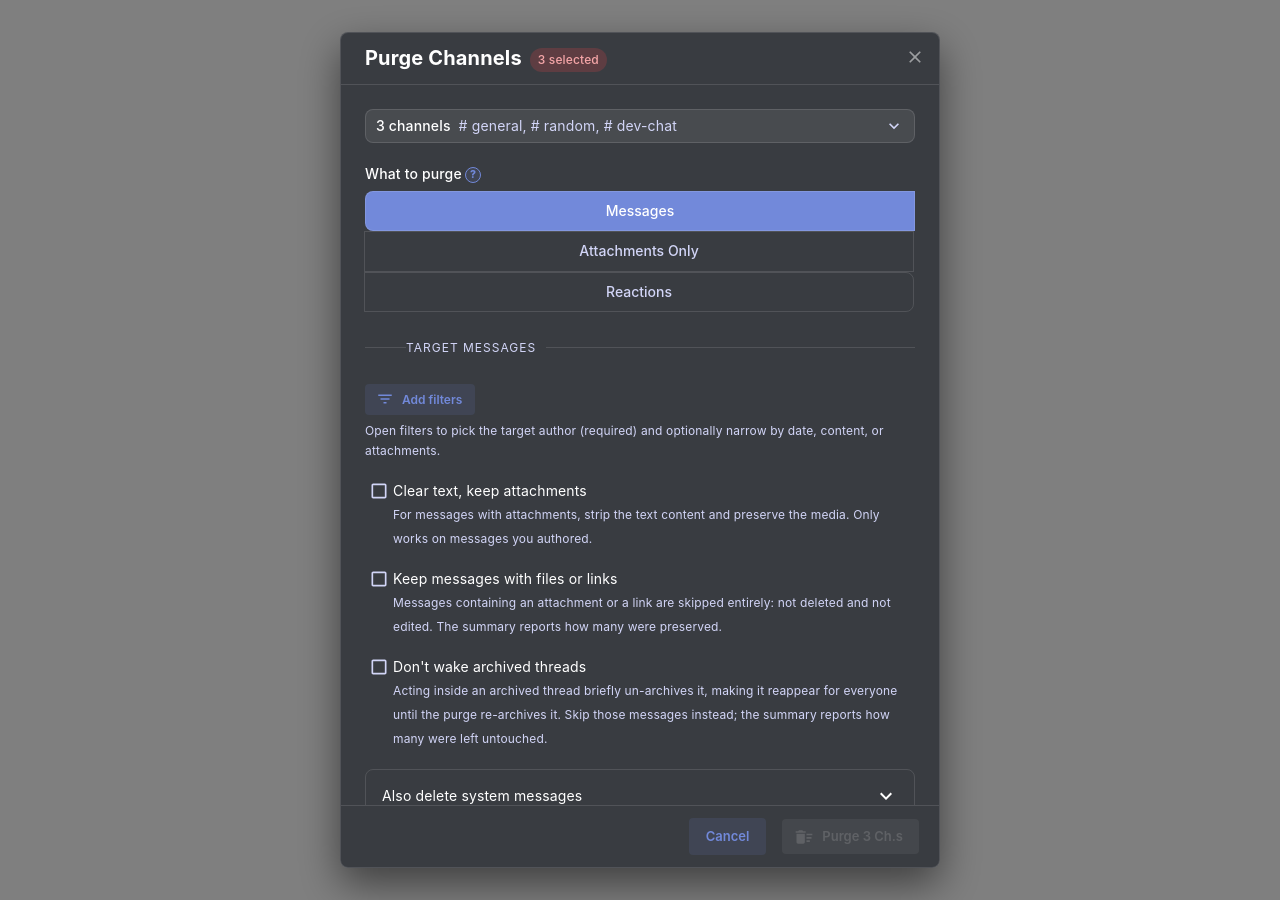
Test: BulkPurgeDialog › Channel mode › expands channel list when summary is clicked
Click the button with aria-label "Selected channels": (640, 126) [365,108,915,142]
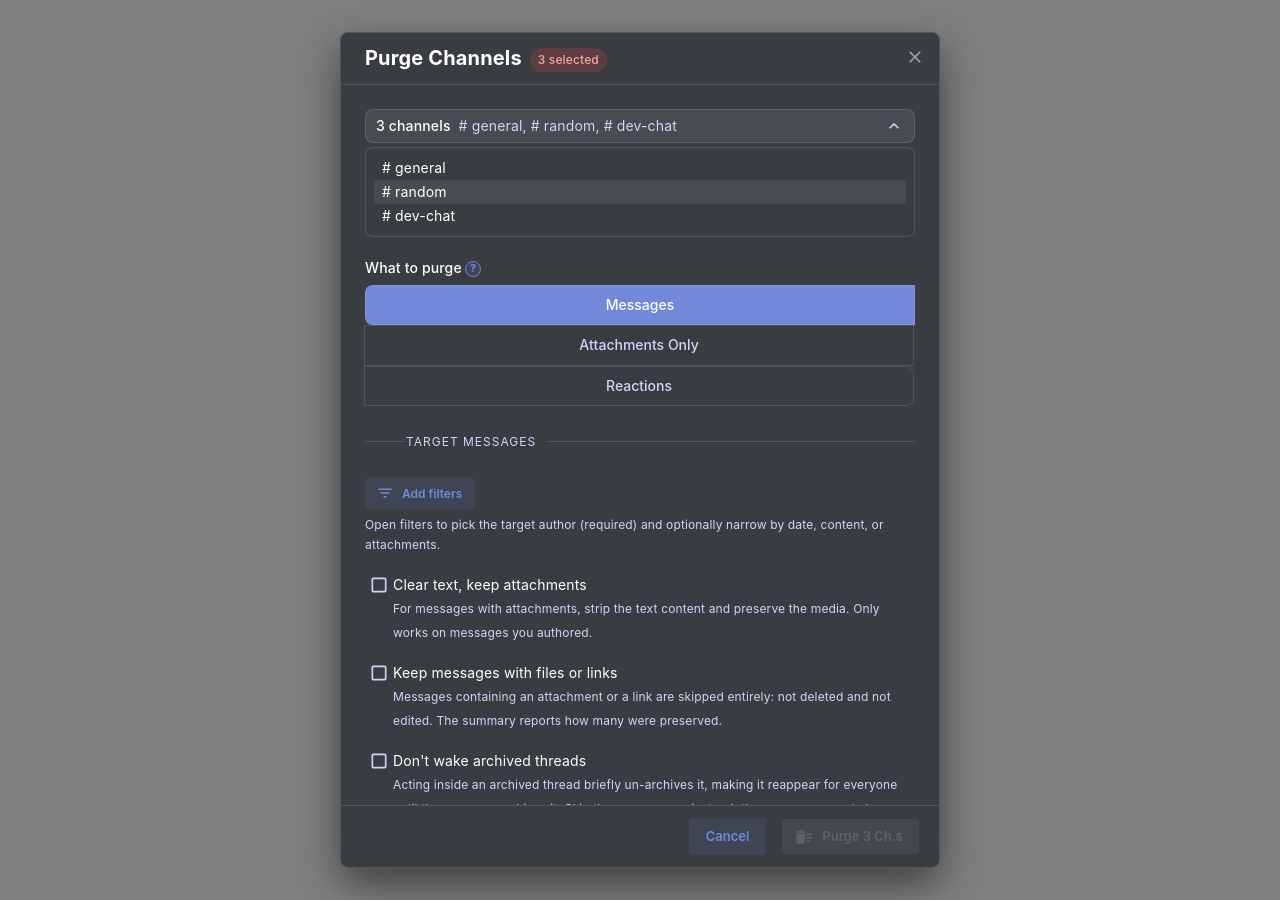
Expected: the text "# general" is shown, [382,159,446,176]
Expected: the text "# random" is shown, [374,180,906,204]
Expected: the text "# dev-chat" is shown, [382,207,455,224]
